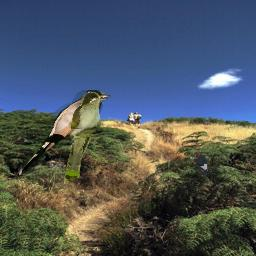Cuckoo: (18, 90, 111, 175), (64, 92, 106, 185)
Woodpecker: (192, 151, 209, 176)
